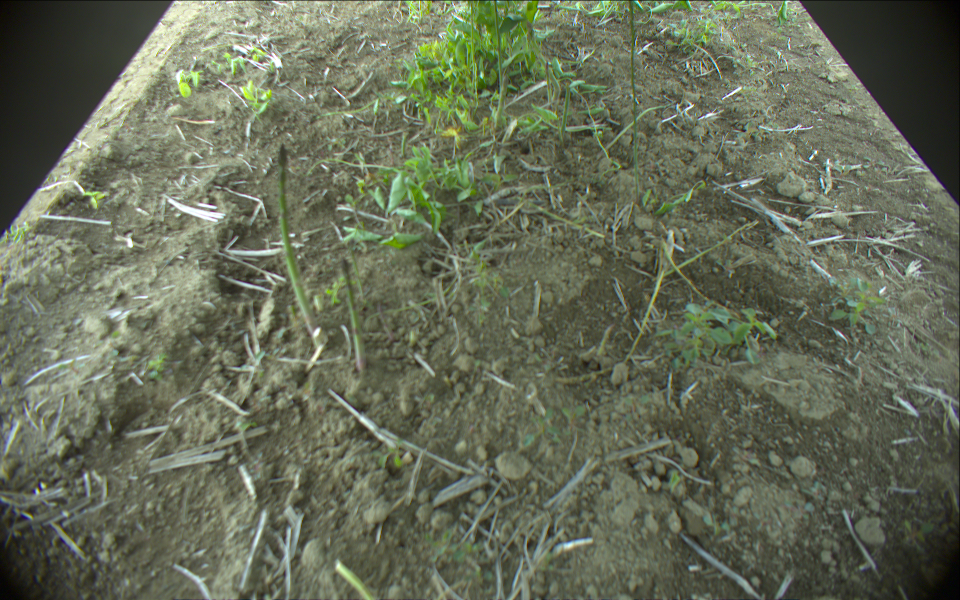aspa: (275, 142, 330, 347), (658, 237, 742, 321), (657, 219, 762, 280), (625, 1, 647, 204), (622, 268, 666, 366), (338, 257, 368, 372), (523, 198, 607, 239), (333, 560, 377, 600), (491, 1, 508, 95), (494, 68, 509, 126), (560, 80, 573, 135), (546, 62, 553, 113), (400, 131, 412, 159)
